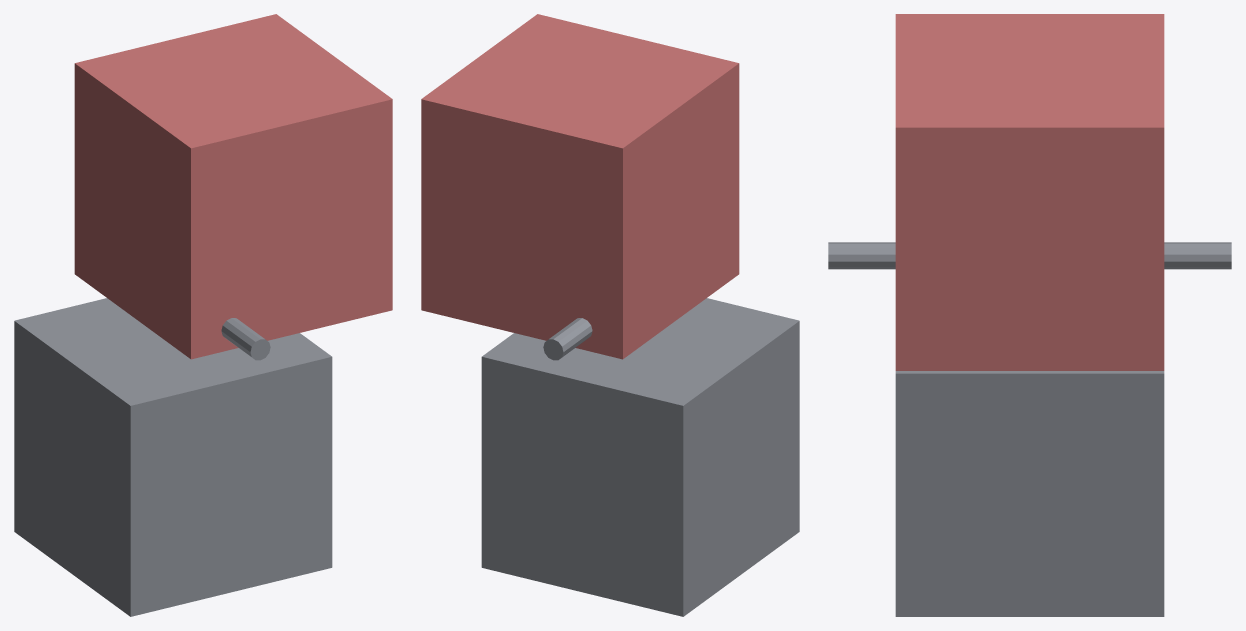
File: mrk_end.glb
The picture shows the model from 3 angles, left to right: view 1: azimuth 30°, elevation 25°; view 2: azimuth 150°, elevation 25°; view 3: azimuth 270°, elevation 25°; orthographic projection. The views are drawn at different scales.
Visible parts, largest first — view 1: world; view 2: world; view 3: world.
Part boxes in pixels (x1,y1,x2,y2): world: [14, 14, 392, 616]; world: [421, 14, 799, 616]; world: [828, 14, 1231, 616].
Bounding box in the file's own units: 1.3 × 2.15 × 1.5.
